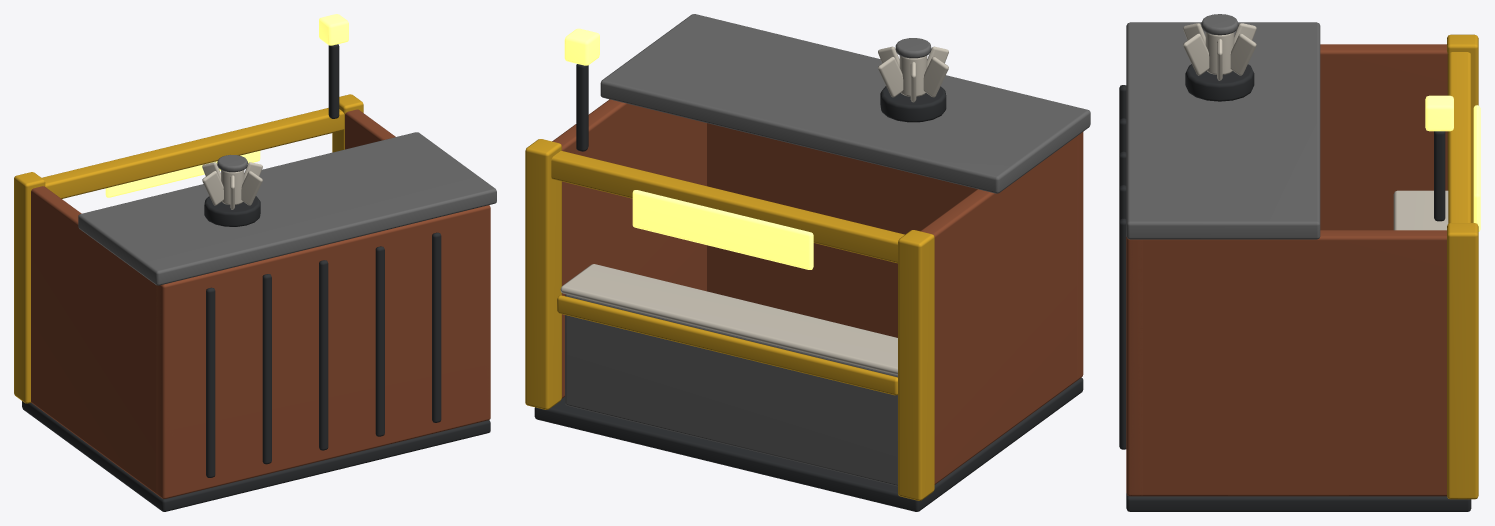
The model's file is shop.glb.
3 renders of one model, left to right at view 1: azimuth 30°, elevation 25°; view 2: azimuth 150°, elevation 25°; view 3: azimuth 270°, elevation 25°, orthographic. The views are drawn at different scales.
Parts seen in each view (by area): view 1: shop, joint_vent; view 2: shop, joint_vent; view 3: shop, joint_vent.
Boxes of the visible parts, bbox=[...] form: shop: bbox=[14, 14, 496, 511]; joint_vent: bbox=[202, 155, 262, 209]; shop: bbox=[525, 14, 1090, 511]; joint_vent: bbox=[878, 38, 948, 102]; shop: bbox=[1119, 22, 1480, 511]; joint_vent: bbox=[1183, 14, 1256, 80].
Bounding box in the file's own units: 3.32 × 3.04 × 2.51.
